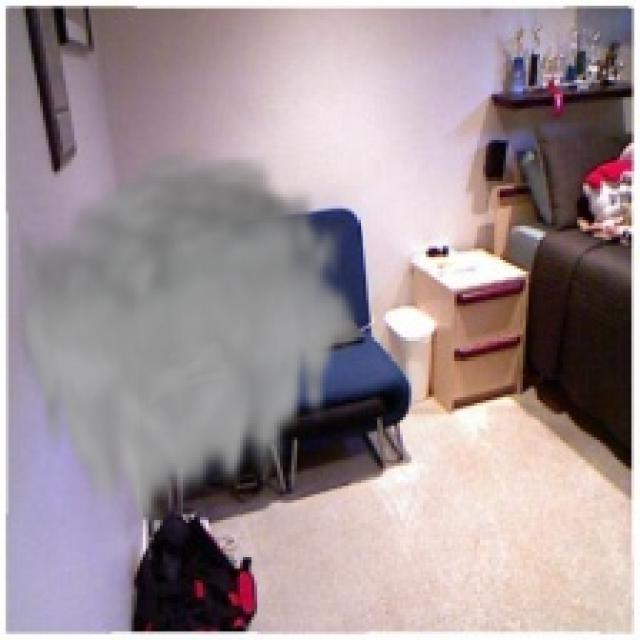Smoke: (14, 140, 363, 543)
